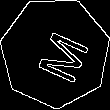M_NW: (24, 22, 87, 83)
